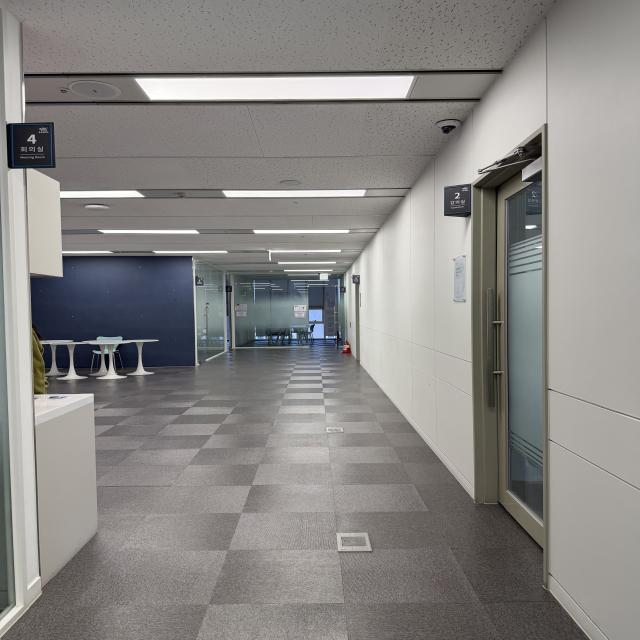room2: (445, 189, 473, 214)
